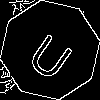U: (25, 25, 81, 83)
